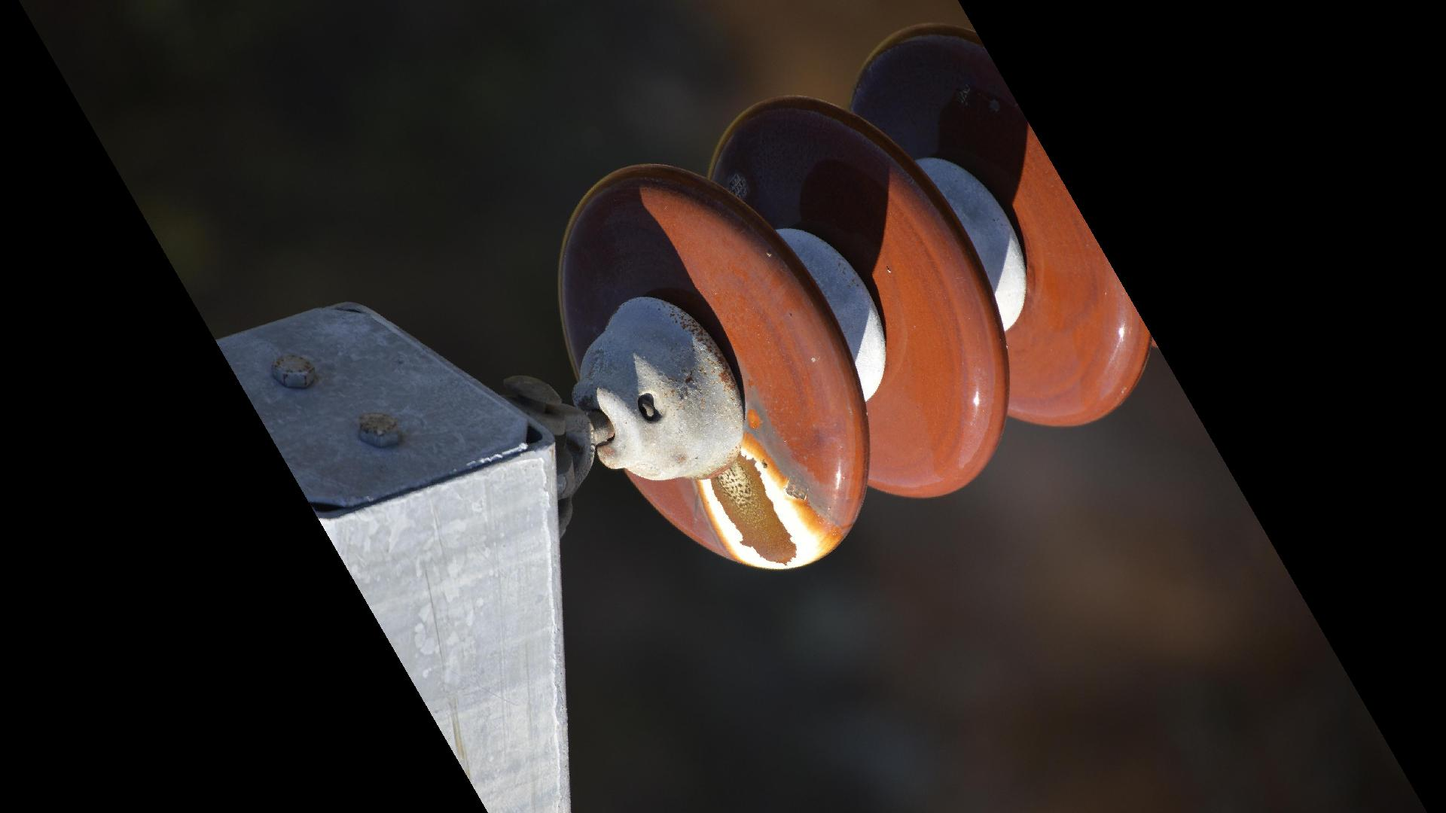insulator: (546, 19, 1167, 583)
insulator_flashover: (691, 434, 847, 575)
